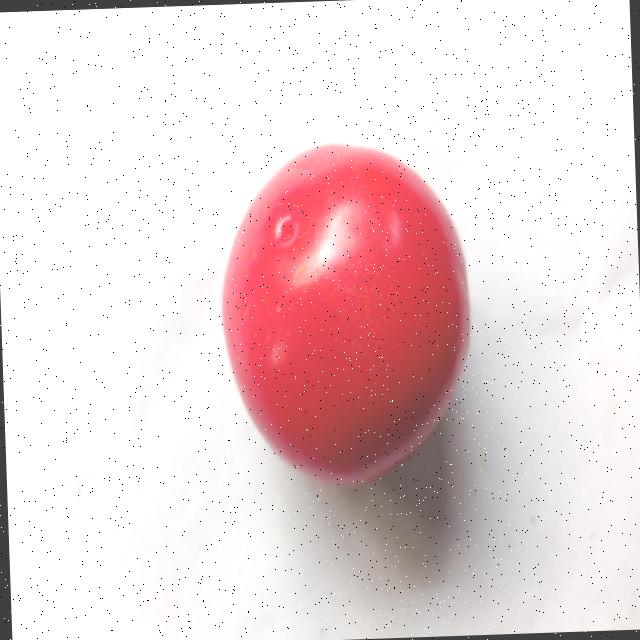Tomato: (212, 132, 474, 490)
